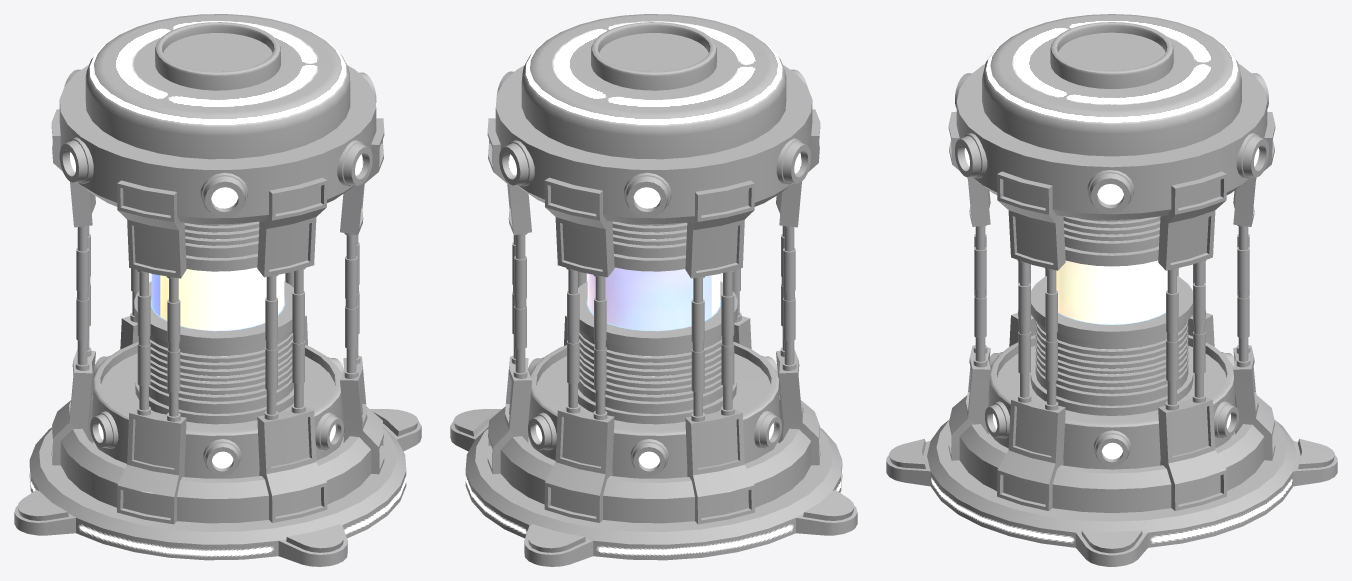
Rendered from SM_Generator7S.fbx.
3 renders of one model, left to right at view 1: azimuth 30°, elevation 25°; view 2: azimuth 150°, elevation 25°; view 3: azimuth 270°, elevation 25°, orthographic. The views are drawn at different scales.
Visible parts, largest first — view 1: SM_Generator7S_LOD0; view 2: SM_Generator7S_LOD0; view 3: SM_Generator7S_LOD0.
Boxes of the visible parts, x1,y1,x2,y2 form: SM_Generator7S_LOD0: [14, 14, 421, 566]; SM_Generator7S_LOD0: [450, 14, 857, 566]; SM_Generator7S_LOD0: [886, 14, 1337, 566].
Size of the model in its own units: 198 by 198 by 205.
